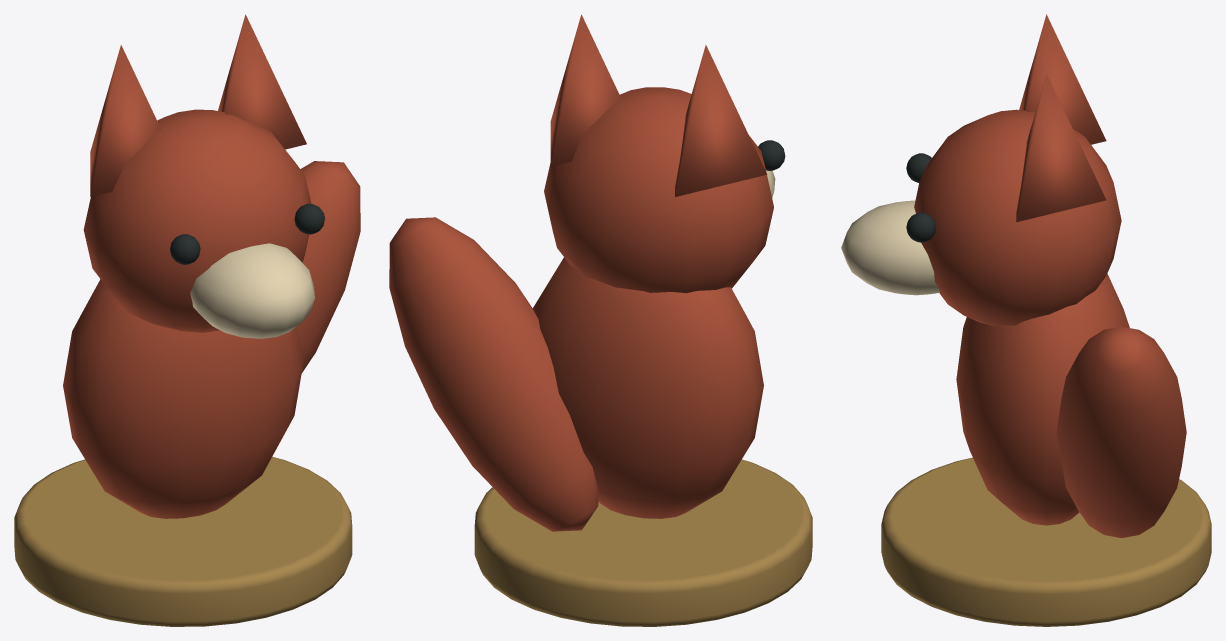
Rendered from Token_Fox.fbx.
3 views of the same model, side by side, from view 1: azimuth 30°, elevation 25°; view 2: azimuth 150°, elevation 25°; view 3: azimuth 270°, elevation 25° (orthographic). The views are drawn at different scales.
Visible parts, largest first — view 1: Fox base.001, Fox body.001, Fox head.001, Fox muzzle.001, Fox tail.001, Fox ear.002, Fox ear.003, Fox eye.002, Fox eye.003; view 2: Fox body.001, Fox base.001, Fox tail.001, Fox head.001, Fox ear.002, Fox ear.003, Fox eye.002; view 3: Fox base.001, Fox head.001, Fox body.001, Fox tail.001, Fox ear.003, Fox muzzle.001, Fox ear.002, Fox eye.003.
Boxes of the visible parts, bbox=[...] form: Fox base.001: bbox=[14, 457, 352, 626]; Fox body.001: bbox=[63, 279, 303, 518]; Fox head.001: bbox=[83, 109, 311, 332]; Fox muzzle.001: bbox=[190, 243, 314, 338]; Fox tail.001: bbox=[297, 161, 360, 373]; Fox ear.002: bbox=[90, 45, 161, 196]; Fox ear.003: bbox=[218, 14, 306, 149]; Fox eye.002: bbox=[170, 234, 200, 264]; Fox eye.003: bbox=[294, 203, 324, 234]; Fox body.001: bbox=[533, 257, 763, 518]; Fox base.001: bbox=[474, 459, 812, 626]; Fox tail.001: bbox=[389, 217, 598, 531]; Fox head.001: bbox=[544, 87, 773, 293]; Fox ear.002: bbox=[675, 45, 767, 196]; Fox ear.003: bbox=[550, 14, 621, 166]; Fox eye.002: bbox=[758, 140, 785, 170]; Fox base.001: bbox=[881, 457, 1211, 626]; Fox head.001: bbox=[914, 109, 1121, 325]; Fox body.001: bbox=[956, 273, 1129, 525]; Fox tail.001: bbox=[1056, 326, 1186, 538]; Fox ear.003: bbox=[1016, 73, 1106, 222]; Fox muzzle.001: bbox=[841, 200, 939, 295]; Fox ear.002: bbox=[1019, 14, 1106, 144]; Fox eye.003: bbox=[906, 212, 936, 242].
Size of the model in its own units: 0.0807 by 0.114 by 0.074.
